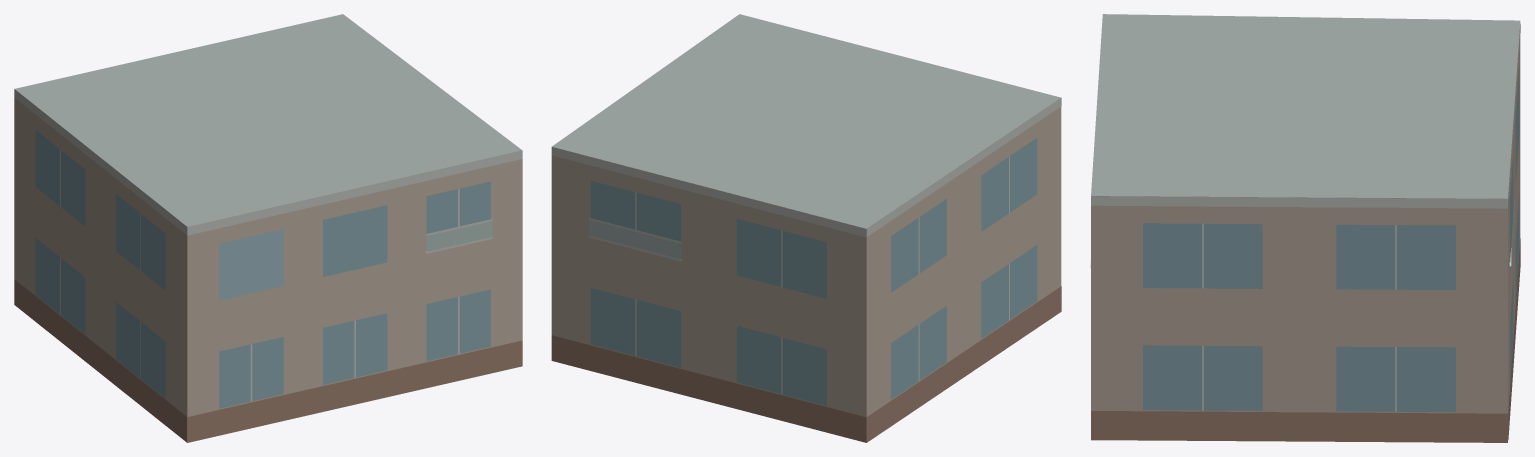
The model's file is survey-upis-32654640.glb.
The picture shows the model from 3 angles, left to right: view 1: azimuth 30°, elevation 25°; view 2: azimuth 150°, elevation 25°; view 3: azimuth 270°, elevation 25°; orthographic projection. The views are drawn at different scales.
Visible parts, largest first — view 1: survey-upis-32654640.tmp; view 2: survey-upis-32654640.tmp; view 3: survey-upis-32654640.tmp.
Boxes of the visible parts, x1,y1,x2,y2 form: survey-upis-32654640.tmp: [14, 14, 522, 442]; survey-upis-32654640.tmp: [551, 14, 1061, 442]; survey-upis-32654640.tmp: [1090, 14, 1520, 442].
Bounding box in the file's own units: 9.91 × 6.1 × 9.75.
